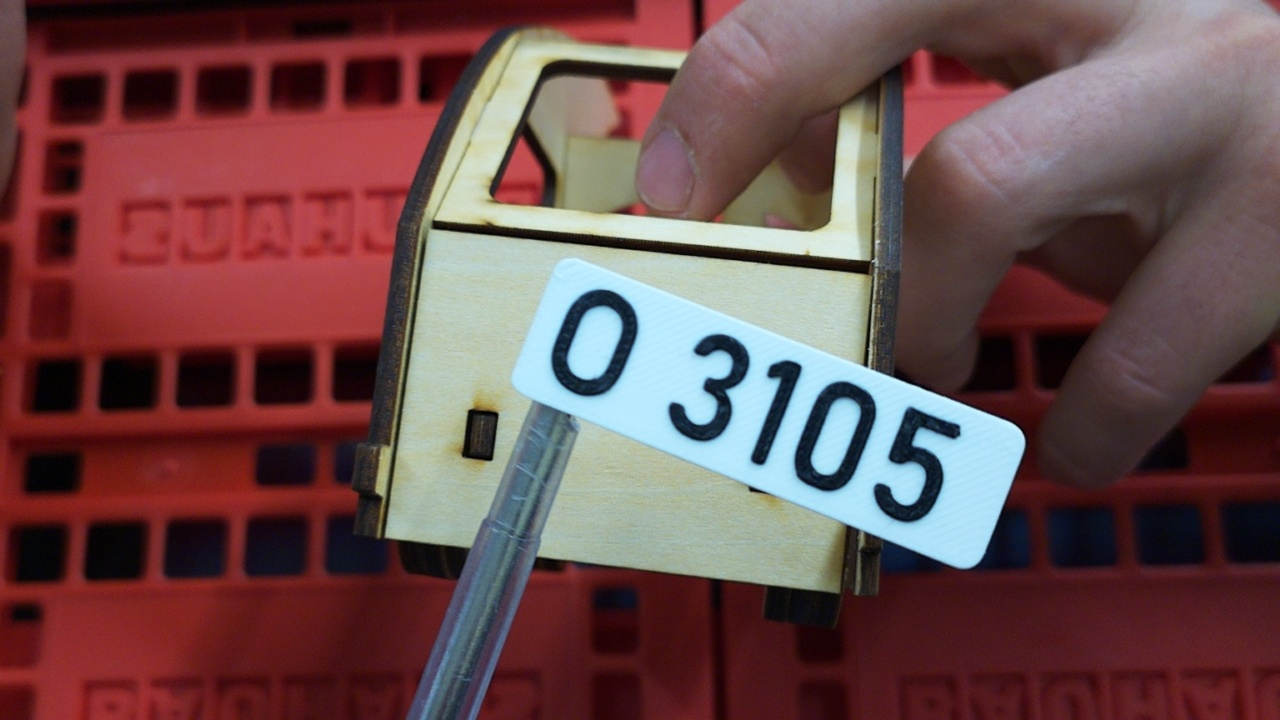license_plate: (505, 249, 1031, 576)
